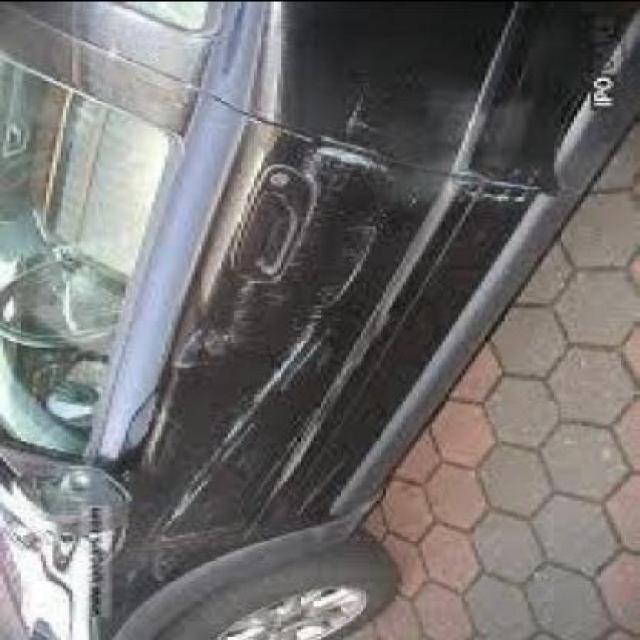damage: (112, 82, 416, 584)
